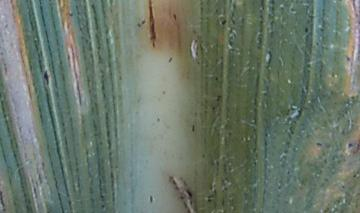tarspot: (43, 69, 50, 85), (220, 19, 227, 26), (315, 141, 323, 147), (345, 53, 350, 62), (68, 11, 74, 18), (347, 143, 353, 149), (304, 27, 309, 33), (352, 173, 357, 179)
